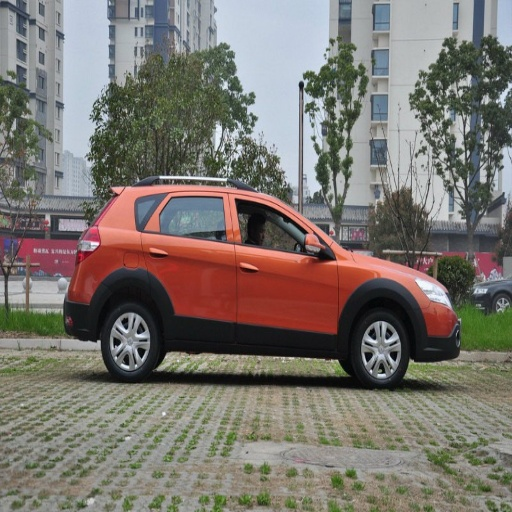back_right_door: (141, 193, 236, 340)
front_right_door: (230, 194, 338, 342)
